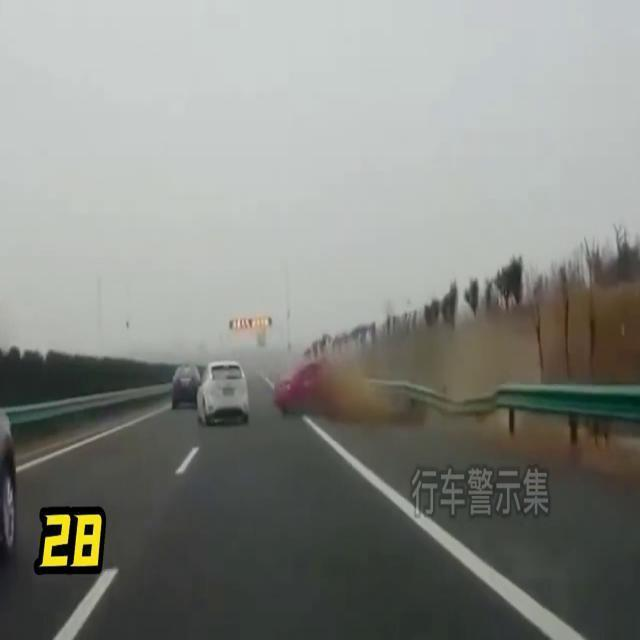accident: (274, 351, 504, 432)
non-accident: (167, 359, 253, 431)
